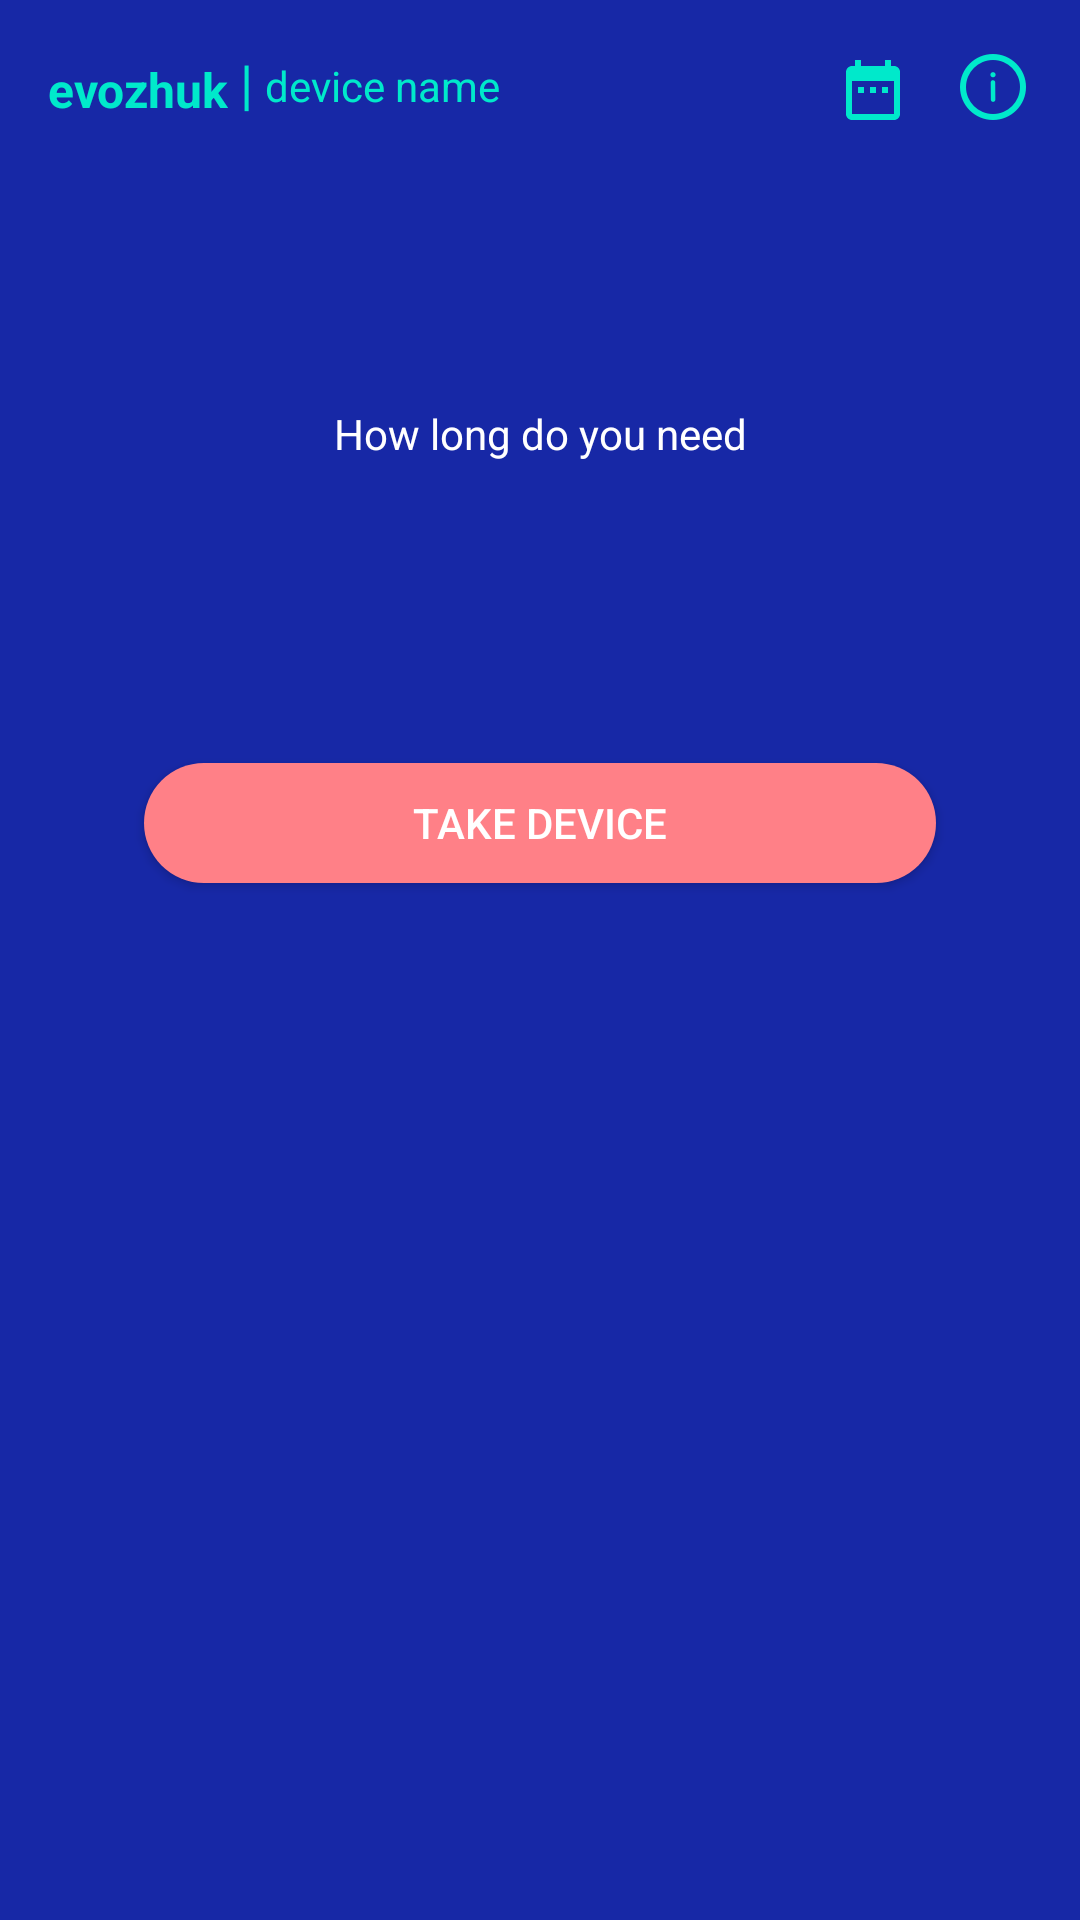

Icon click points for this 1080*1920 phone screenshot, format point (x, y):
date range: point (873, 90)
info: point (993, 87)
